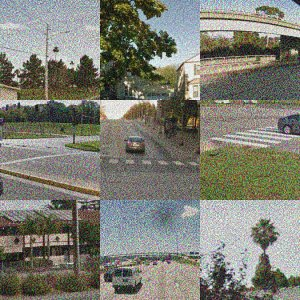汽車: (109, 261, 149, 294), (120, 130, 150, 153), (275, 113, 300, 136)
